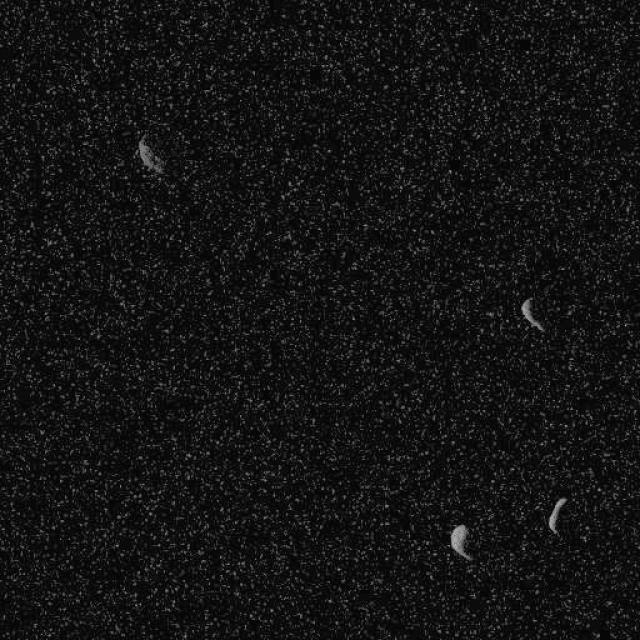D2: (136, 131, 165, 175), (448, 522, 474, 562), (519, 295, 545, 331), (546, 496, 568, 535)
